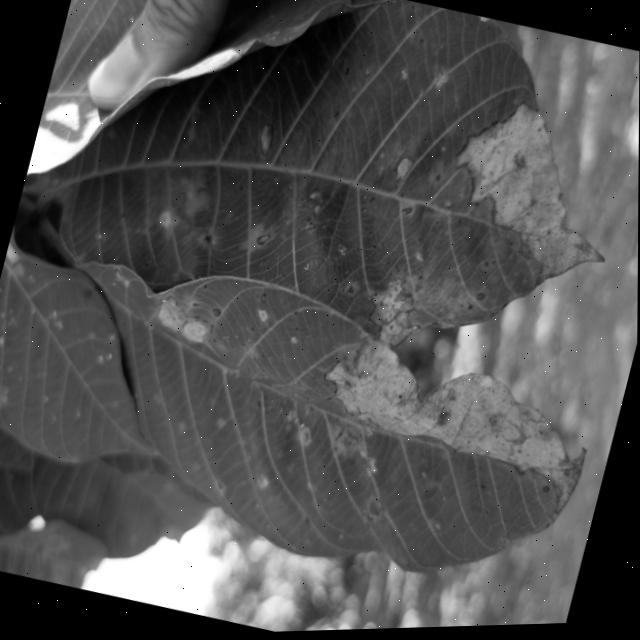Colletotrichum: (254, 233, 270, 249), (210, 307, 222, 318), (258, 292, 267, 305), (475, 293, 485, 304), (202, 235, 212, 245), (541, 487, 550, 496), (488, 509, 495, 515)
Leaf-Blight: (299, 324, 603, 540), (429, 90, 639, 304), (358, 273, 424, 357), (152, 294, 217, 347), (393, 158, 412, 183)
